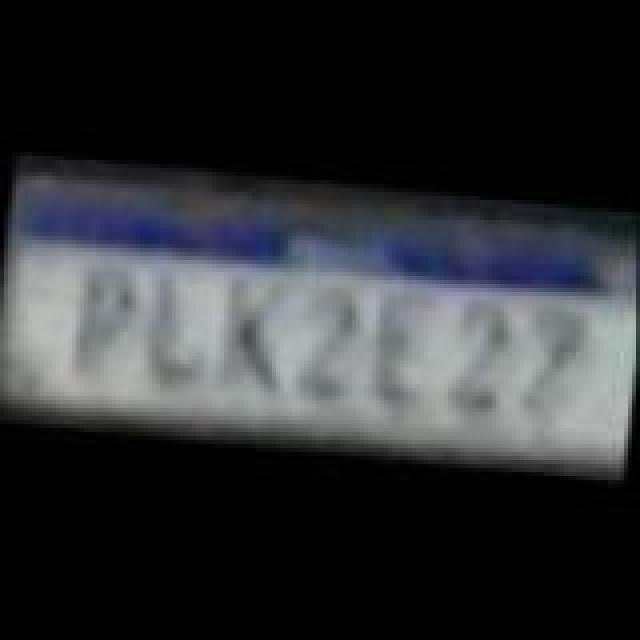2: (438, 290, 526, 414), (288, 280, 372, 404)
7: (516, 288, 592, 416)
E: (364, 282, 440, 406)
K: (206, 272, 286, 400)
L: (136, 264, 212, 384)
P: (66, 258, 138, 390)
